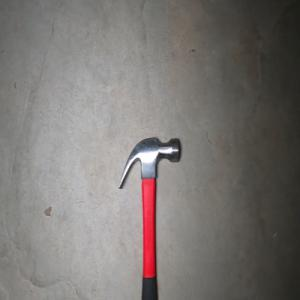Hammer: (117, 135, 180, 300)
